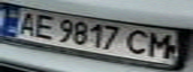1: (87, 20, 106, 48)
7: (103, 24, 124, 52)
8: (69, 18, 90, 46)
9: (54, 16, 75, 44)
A: (12, 9, 42, 37)
C: (124, 27, 154, 56)
E: (30, 11, 57, 39)
M: (145, 31, 181, 60)
